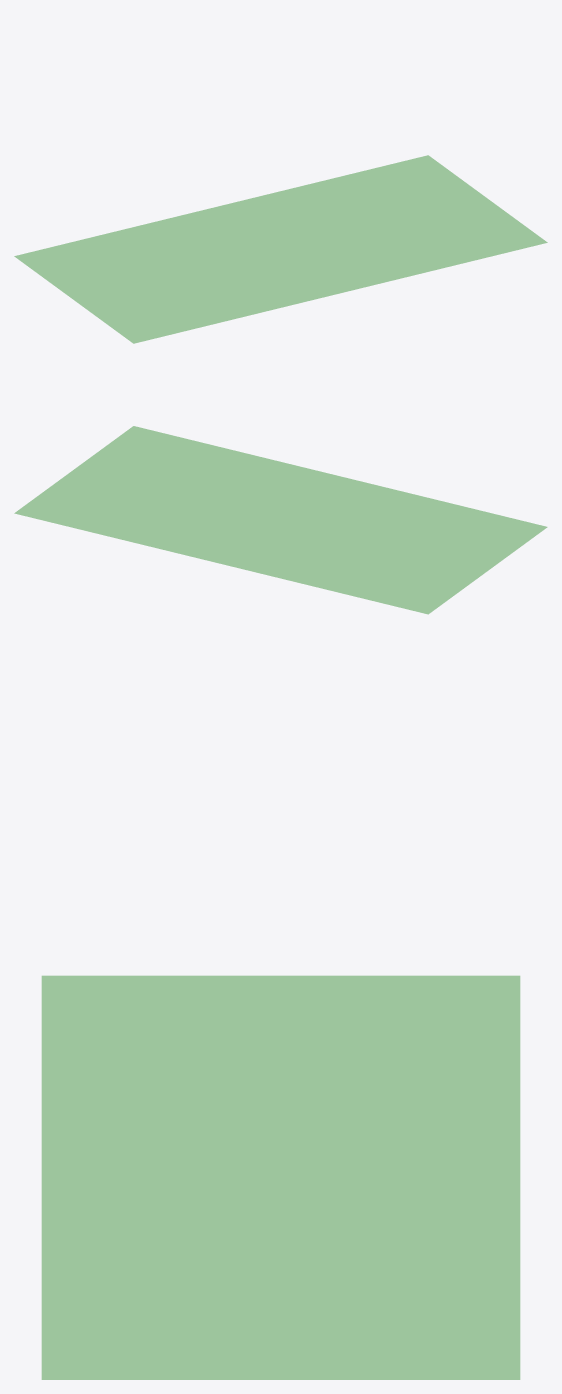
Rendered from world.glb.
3 views of the same model, one above another, from view 1: azimuth 30°, elevation 25°; view 2: azimuth 150°, elevation 25°; view 3: azimuth 270°, elevation 25° (orthographic). The views are drawn at different scales.
Visible parts, largest first — view 1: ground_b, ground_a; view 2: ground_a, ground_b; view 3: ground_a, ground_b.
Part boxes in pixels (x1,y1,x2,y2): ground_b: (221,155,547,292); ground_a: (14,206,340,343); ground_a: (221,476,547,614); ground_b: (14,426,340,563); ground_a: (41,975,520,1177); ground_b: (41,1177,520,1379).
Bounding box in the file's own units: 4 × 2 × 2.
